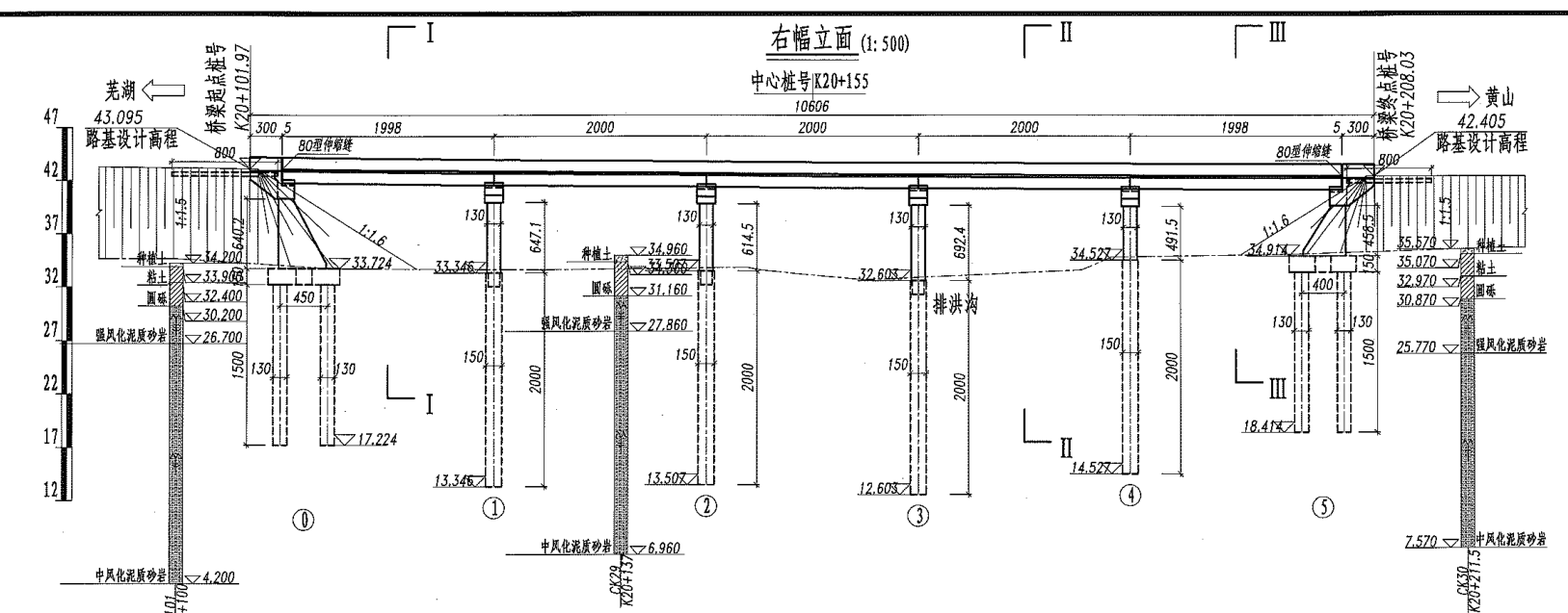C: (1228, 232, 1368, 527), (842, 180, 946, 535), (418, 177, 520, 529), (1052, 179, 1158, 514), (643, 178, 734, 527)
